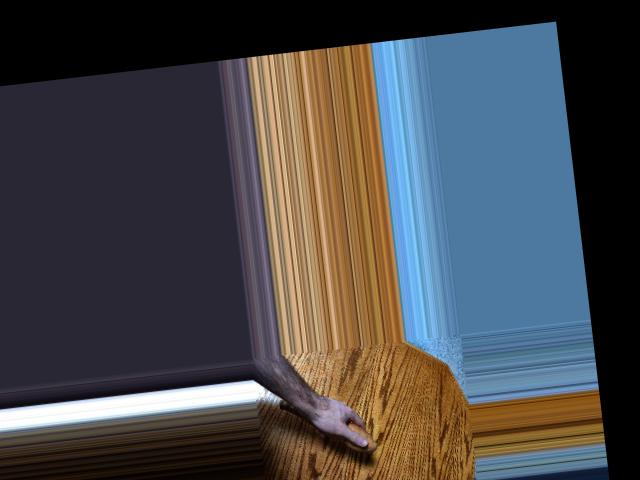sweet_potato: (275, 385, 378, 461)
